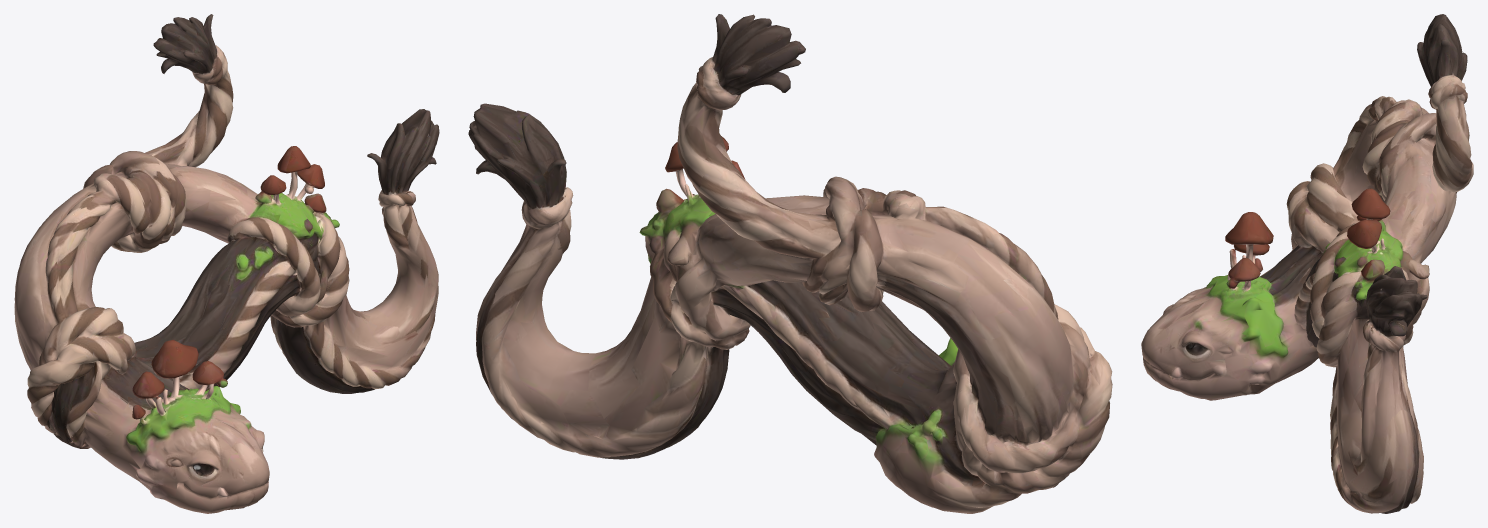
3 renders of one model, left to right at view 1: azimuth 30°, elevation 25°; view 2: azimuth 150°, elevation 25°; view 3: azimuth 270°, elevation 25°, orthographic. The views are drawn at different scales.
Visible parts, largest first — view 1: Mesh_0; view 2: Mesh_0; view 3: Mesh_0.
Part boxes in pixels (bbox=[...]): Mesh_0: bbox=[14, 14, 439, 513]; Mesh_0: bbox=[468, 14, 1112, 513]; Mesh_0: bbox=[1141, 14, 1473, 513].
Bounding box in the file's own units: 1.9 × 1.58 × 1.17.
Materials: 1 (1 with a texture image).
